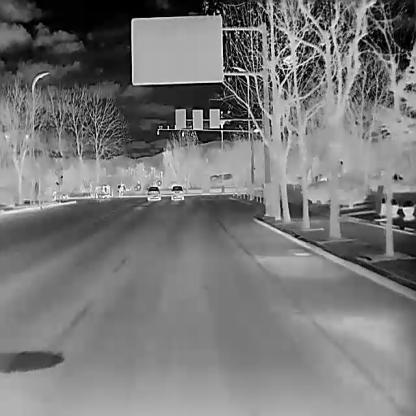car: (146, 185, 161, 201), (94, 184, 111, 198), (170, 184, 184, 200)
